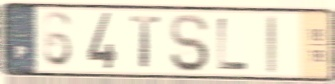4: (85, 10, 118, 72)
6: (42, 10, 74, 71)
I: (264, 13, 278, 75)
L: (215, 15, 250, 72)
S: (168, 11, 211, 74)
T: (128, 13, 163, 70)
